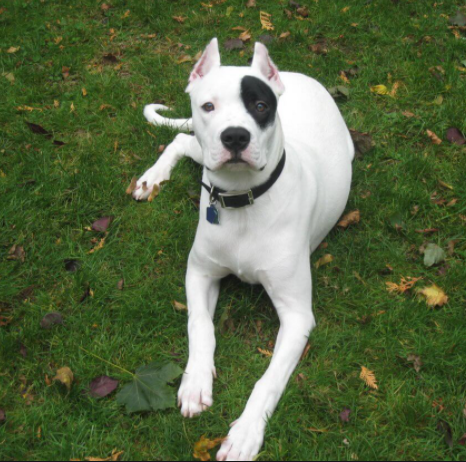dog: (127, 39, 363, 462)
